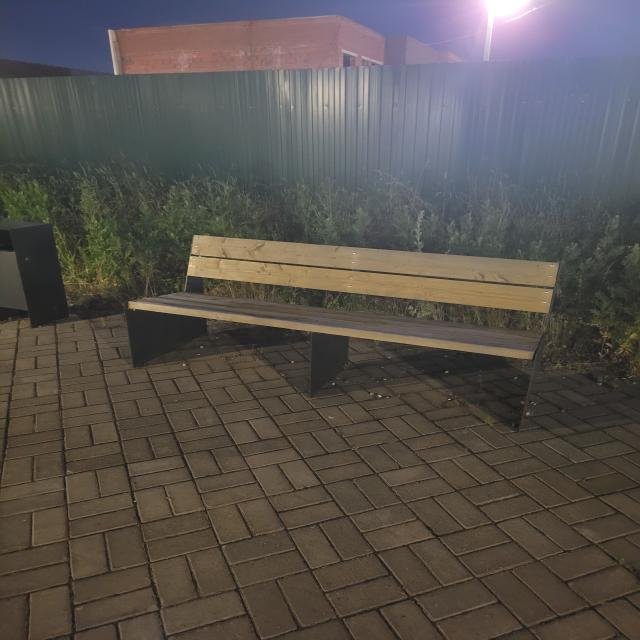Bench: (126, 235, 560, 432)
